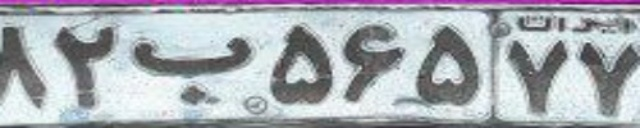2: (56, 24, 125, 108)
5: (414, 24, 485, 105), (269, 24, 334, 103)
6: (339, 23, 405, 103)
7: (575, 40, 638, 114), (506, 39, 567, 113)
8: (0, 23, 54, 107)
be: (130, 37, 251, 104)
